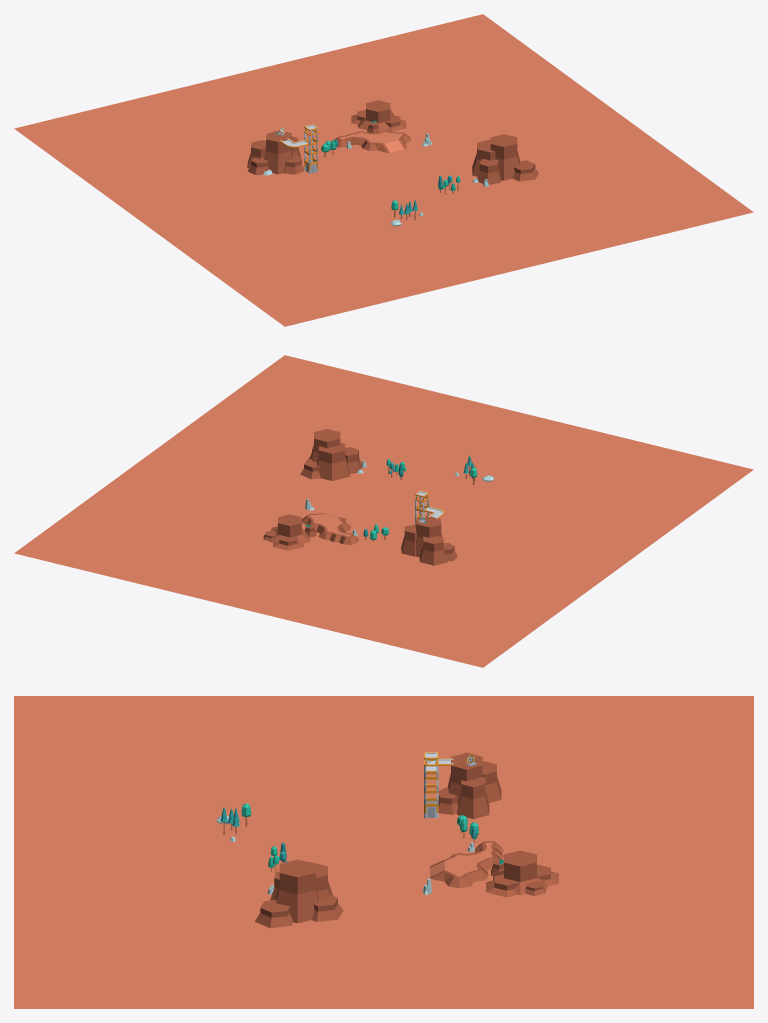
File: Blocks Engine 2 map.fbx
3 renders of one model, top to bottom at view 1: azimuth 30°, elevation 25°; view 2: azimuth 150°, elevation 25°; view 3: azimuth 270°, elevation 25°, orthographic. The views are drawn at different scales.
Parts seen in each view (by area): view 1: mergedBlocks; view 2: mergedBlocks; view 3: mergedBlocks.
Part boxes in pixels (x1,y1,x2,y2): mergedBlocks: (14, 14, 753, 326); mergedBlocks: (14, 355, 753, 667); mergedBlocks: (14, 696, 753, 1008).
Size of the model in its own units: 500 by 48 by 500.
